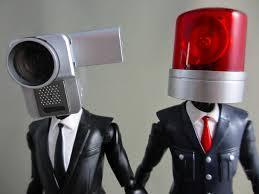no more kid: (5, 26, 126, 119)
